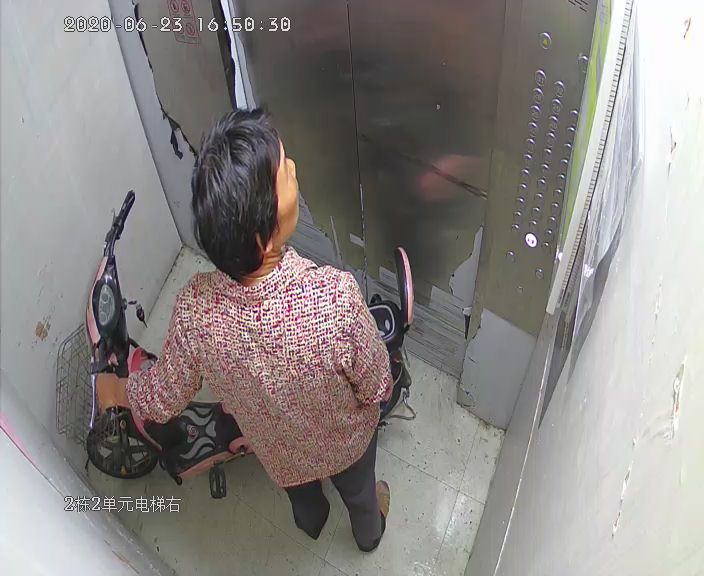Electric-bicycle: (61, 196, 416, 495)
